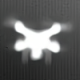plane: (6, 16, 72, 65)
